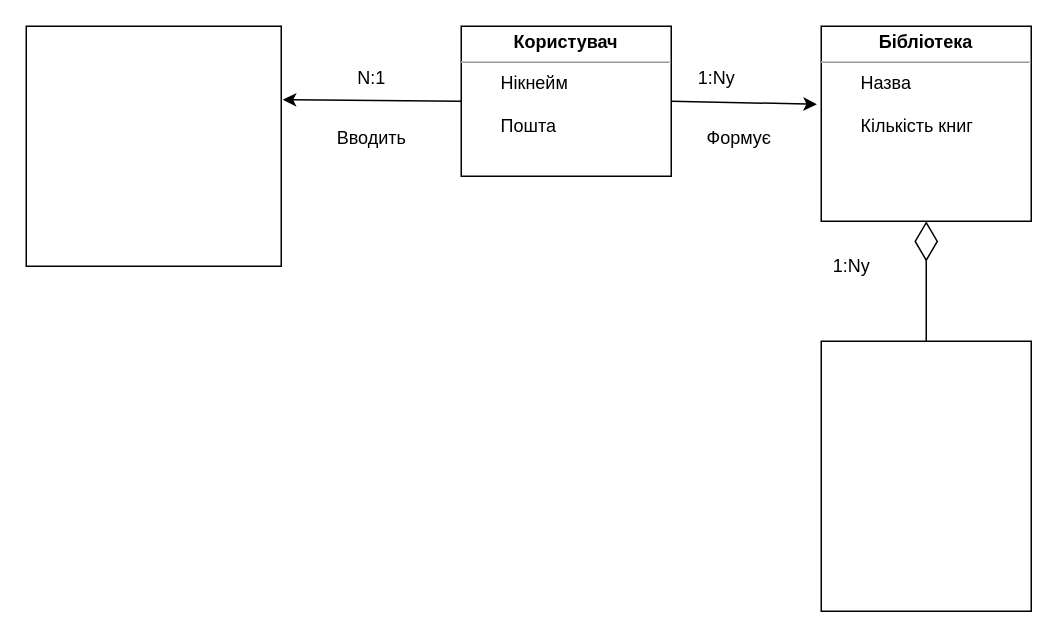
This 1058x638 diagram has some shape labels left out. Each missing label, with the centre of its shape:
"Книга Назва Автор Рік видання Автор перекладу Кількість сторінок" belongs at point (925, 475).
"Інформація про сон Кількість хвилин Проміжок сну Дата" belongs at point (153, 145).
